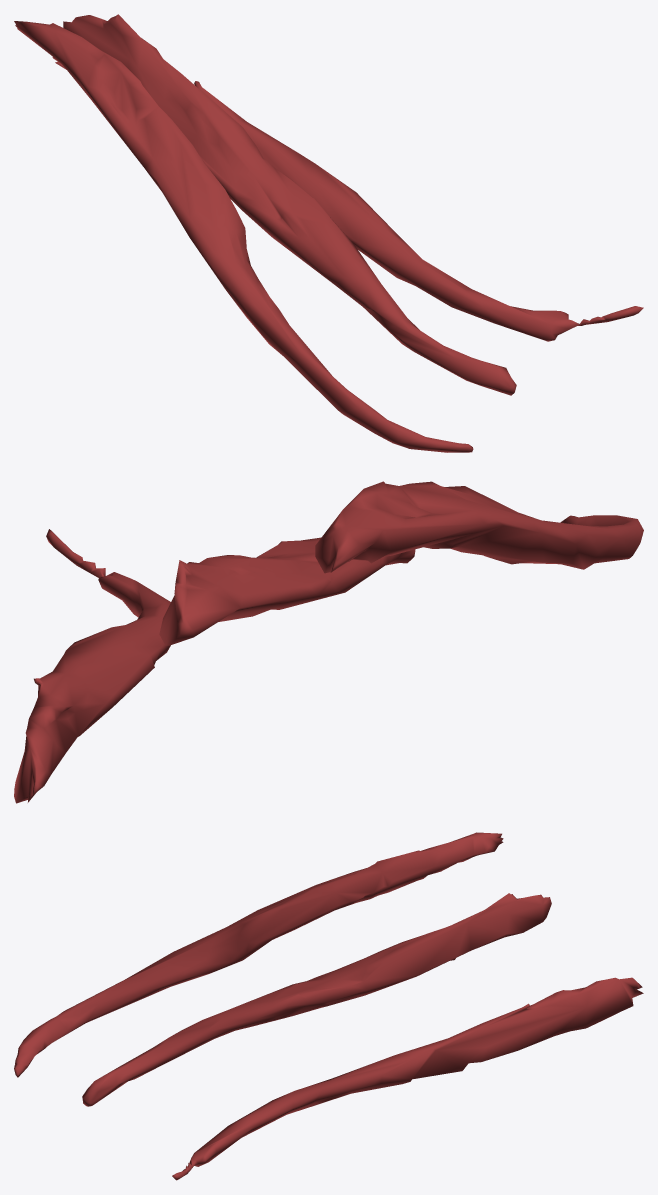
Rendered from plantar-interossei-muscles-l.glb.
3 views of the same model, one above another, from view 1: azimuth 30°, elevation 25°; view 2: azimuth 150°, elevation 25°; view 3: azimuth 270°, elevation 25° (orthographic). The views are drawn at different scales.
Parts seen in each view (by area): view 1: Plantar interossei muscles.l; view 2: Plantar interossei muscles.l; view 3: Plantar interossei muscles.l.
Boxes of the visible parts, left/top/right/bottom form: Plantar interossei muscles.l: left=14, top=14, right=643, bottom=452; Plantar interossei muscles.l: left=14, top=481, right=643, bottom=803; Plantar interossei muscles.l: left=14, top=832, right=643, bottom=1180.
Size of the model in its own units: 0.043 by 0.0263 by 0.0718.
